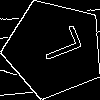L: (29, 24, 83, 66)
